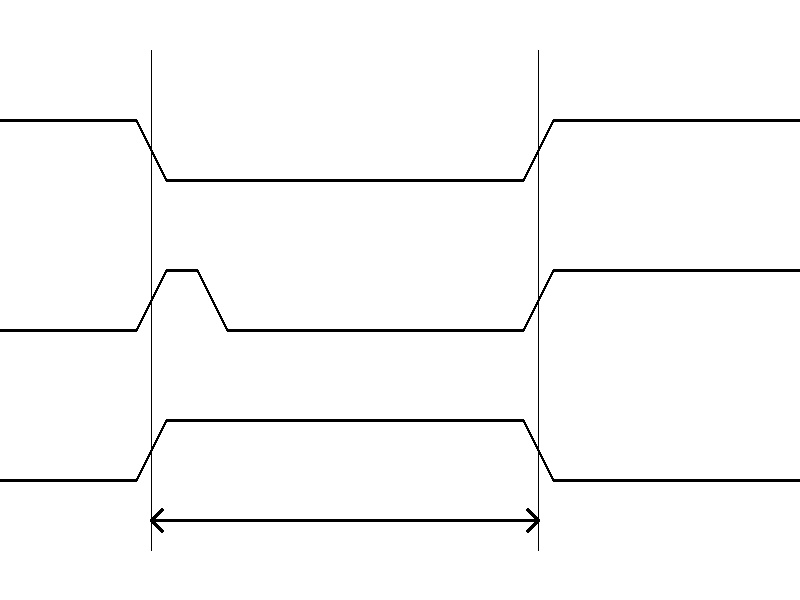double_arrow: (151, 505, 538, 535)
